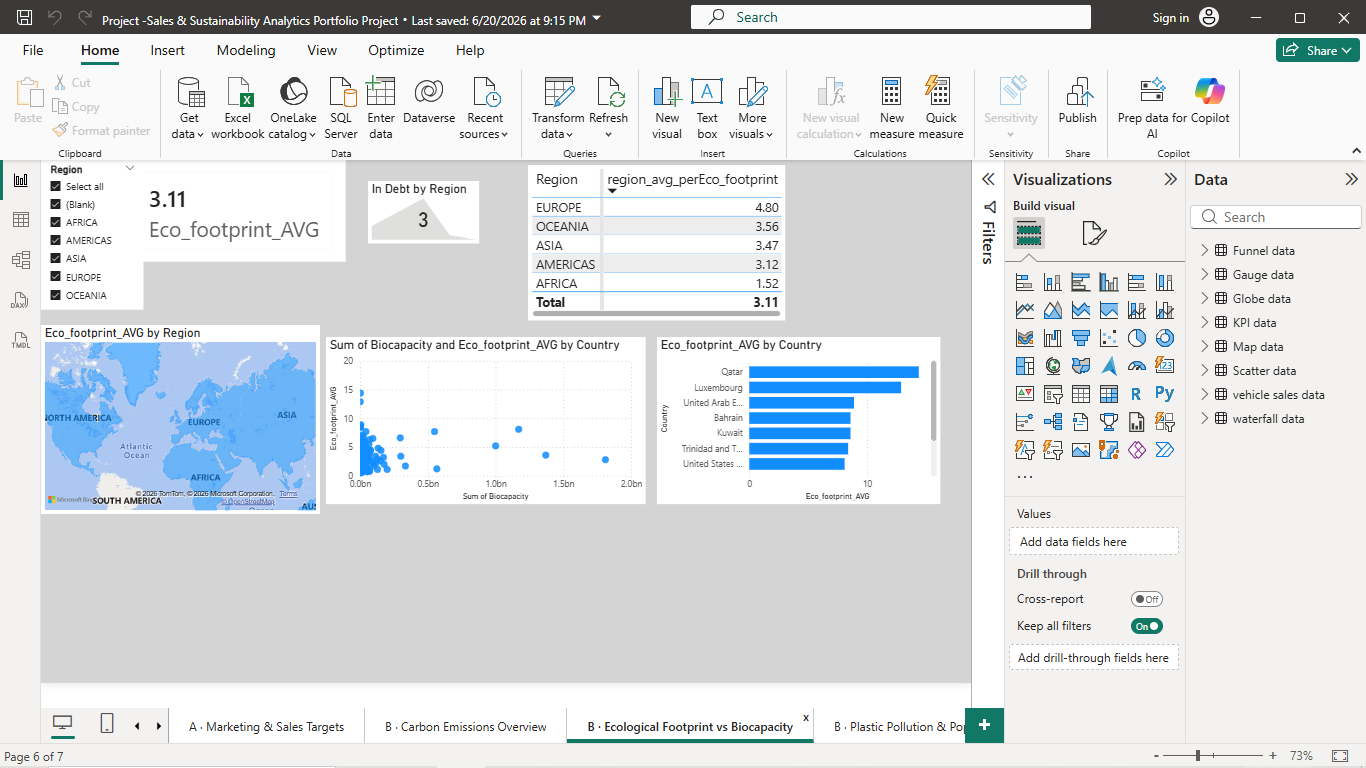

The page's visual inventory and layout, read from the dashboard file:
{"tool":"powerbi","page":{"name":"PROJECT B- Ecological Footprint vs Biocapacity","canvas":[1280,720],"ordinal":5},"visuals":[{"type":"cardVisual","fields":{"Data":["Map data.Eco_footprint_AVG"]},"box":[118.6,0,301.4,140],"z":0},{"type":"tableEx","fields":{"Values":["Map data.Region","Map data.Eco_footprint_AVG"]},"box":[670,7.1,354.3,214.3],"z":1000},{"type":"kpi","fields":{"Indicator":["Map data.In Debt"],"TrendLine":["Map data.Region"]},"box":[450,28.6,152.9,85.7],"z":2000},{"type":"filledMap","fields":{"Category":["Map data.Region"]},"box":[0,227.1,382.9,260],"z":3000},{"type":"slicer","fields":{"Values":["Map data.Region"]},"box":[0,0,141.4,205.7],"z":4000},{"type":"scatterChart","fields":{"X":["Sum(Map data.Biocapacity)"],"Y":["Map data.Eco_footprint_AVG"],"Category":["Map data.Country","Map data.Region"]},"box":[392.9,244.3,440,230],"z":5000},{"type":"barChart","fields":{"Category":["Map data.Country"],"Y":["Map data.Eco_footprint_AVG"]},"box":[847.1,244.3,390,230],"z":6000}]}

Visuals, with their boxes on the page's 1280x720 design canvas (x1, y1, x2, y2). These are canvas units, not pixel positions in the 1366x768 screenshot, which may show the page scaled, cropped or inside an application window:
cardVisual - Map data.Eco_footprint_AVG: x1=119, y1=0, x2=420, y2=140
tableEx - Map data.Region x Map data.Eco_footprint_AVG: x1=670, y1=7, x2=1024, y2=221
kpi - Map data.In Debt x Map data.Region: x1=450, y1=29, x2=603, y2=114
filledMap - Map data.Region: x1=0, y1=227, x2=383, y2=487
slicer - Map data.Region: x1=0, y1=0, x2=141, y2=206
scatterChart - Sum(Map data.Biocapacity) x Map data.Eco_footprint_AVG: x1=393, y1=244, x2=833, y2=474
barChart - Map data.Country x Map data.Eco_footprint_AVG: x1=847, y1=244, x2=1237, y2=474
